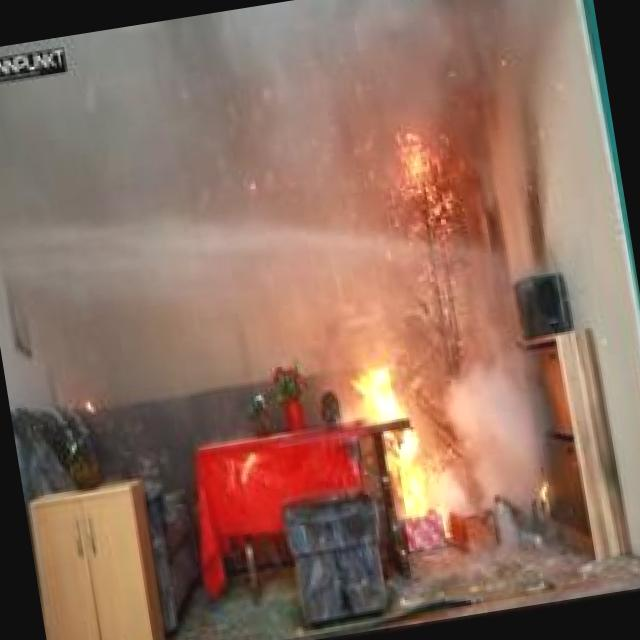fire: (342, 354, 437, 508)
smoke: (395, 262, 556, 501)
